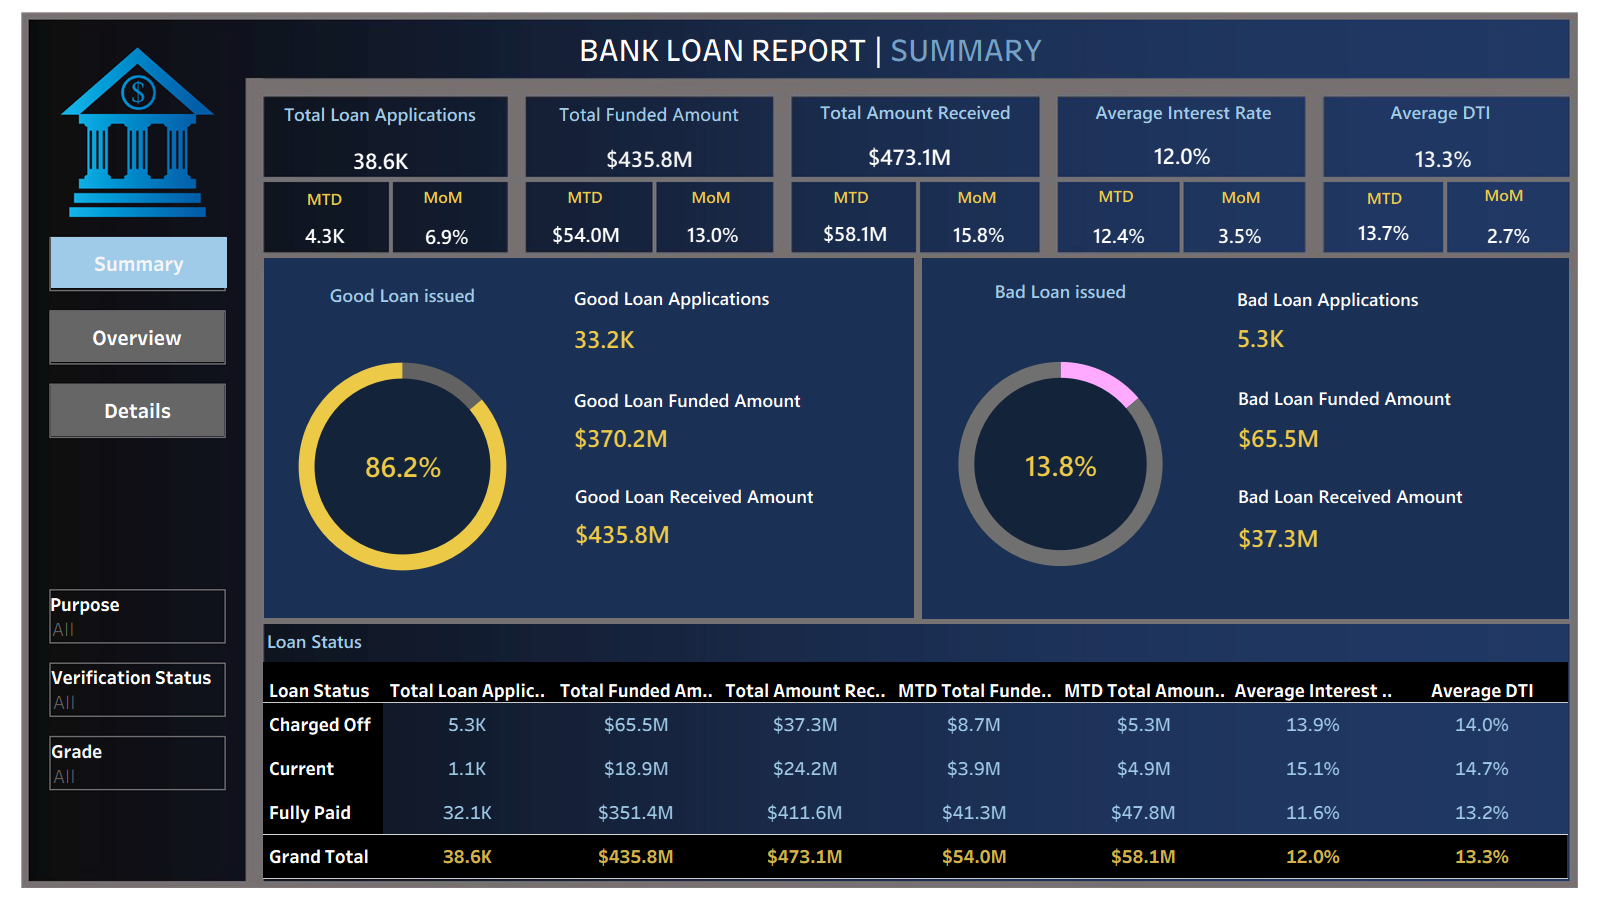

The dashboard page shown, as its layout file describes it:
{"tool":"tableau","page":{"name":"Summary Dashboard","canvas":[1600,900],"ordinal":2},"visuals":[{"type":"image","param":"C:/Users/JOY/Downloads/summary-01.jpg","box":[8,8,1584,884]},{"type":"text","box":[445,24,731,50]},{"type":"text","box":[555,96,188,35]},{"type":"text","box":[280,97,200,34]},{"type":"text","box":[816,97,199,30]},{"type":"text","box":[1091,97,185,30]},{"type":"text","box":[1386,97,109,30]},{"type":"worksheet","title":"Avg Interest Rate","mark":"Automatic","box":[1139,136,88,40]},{"type":"worksheet","title":"Total Amount Received","mark":"Automatic","box":[863,139,95,36]},{"type":"worksheet","title":"Total Funded Amount","mark":"Automatic","box":[600,142,101,34]},{"type":"worksheet","title":"Average DTI","mark":"Automatic","box":[1390,143,109,32]},{"type":"worksheet","title":"Total Loan Applications","mark":"Automatic","box":[338,144,87,33]},{"type":"text","box":[1449,180,110,30]},{"type":"text","box":[1066,181,100,30]},{"type":"text","box":[398,182,90,30]},{"type":"text","box":[535,182,100,30]},{"type":"text","box":[661,182,100,30]},{"type":"text","box":[801,182,100,30]},{"type":"text","box":[927,182,100,30]},{"type":"text","box":[1185,182,112,30]},{"type":"text","box":[1355,183,59,30]},{"type":"text","box":[283,184,83,29]},{"type":"worksheet","title":"MTD Total Amount Received","mark":"Automatic","box":[812,215,87,36]},{"type":"worksheet","title":"MTD Average DTI","mark":"Automatic","box":[1340,215,88,35]},{"type":"worksheet","title":"MTD Total Funded Amount","mark":"Automatic","box":[543,217,87,34]},{"type":"worksheet","title":"MoM Total Amount Received","mark":"Automatic","box":[938,217,82,35]},{"type":"worksheet","title":"MoM Total Funded Amount","mark":"Automatic","box":[672,218,82,33]},{"type":"worksheet","title":"MoM Average Interest Rate","mark":"Automatic","box":[1191,218,99,34]},{"type":"worksheet","title":"MoM Average DTI","mark":"Automatic","box":[1471,218,76,34]},{"type":"worksheet","title":"MTD Total Loan Applications","mark":"Automatic","box":[288,219,75,32]},{"type":"worksheet","title":"MoM Total Loan Applications","mark":"Automatic","box":[401,220,92,32]},{"type":"worksheet","title":"MTD Avg Interest Rate","mark":"Automatic","box":[1080,220,79,31]},{"type":"dashboard-object","box":[51,237,176,51]},{"type":"worksheet","title":"Good Loan Vs Bad Loan Copy","mark":"Pie","rows":["Calculation_0282077807128601","Calculation_0282077807128601"],"box":[921,273,279,343]},{"type":"worksheet","title":"Good VS Bad Loan","mark":"Pie","rows":["Calculation_0282077807128601","Calculation_0282077807128601"],"box":[263,277,279,340]},{"type":"worksheet","title":"Good Loan Applications","mark":"Automatic","box":[570,280,334,78]},{"type":"worksheet","title":"Bad Loan Applications","mark":"Automatic","box":[1233,281,312,74]},{"type":"dashboard-object","box":[50,311,174,51]},{"type":"worksheet","title":"Bad Loan Funded Amount","mark":"Automatic","box":[1234,380,308,76]},{"type":"worksheet","title":"Good Loan Funded Amount","mark":"Automatic","box":[570,382,337,73]},{"type":"dashboard-object","box":[51,384,173,52]},{"type":"worksheet","title":"% Bad Loan Applications ","mark":"Automatic","box":[996,412,131,106]},{"type":"worksheet","title":"% Good Loan Applications","mark":"Automatic","box":[333,419,141,94]},{"type":"worksheet","title":"Good Loan Total Received Amount","mark":"Automatic","box":[571,478,333,73]},{"type":"worksheet","title":"Bad Loan Total Received Amount ","mark":"Automatic","box":[1234,478,313,80]},{"type":"filter","title":"Good VS Bad Loan","param":"[federated.02bapp10spx5te19axciv0uohof1].[none:purpose:nk]","box":[50,590,176,52]},{"type":"worksheet","title":"Loan Staus App","mark":"Automatic","rows":["loan_status"],"box":[263,623,1305,256]},{"type":"filter","title":"Good VS Bad Loan","param":"[federated.02bapp10spx5te19axciv0uohof1].[none:verification_status:nk]","box":[51,663,174,140]},{"type":"filter","title":"Good VS Bad Loan","param":"[federated.02bapp10spx5te19axciv0uohof1].[none:grade:nk]","box":[51,737,175,52]}]}

Visuals, with their boxes in screenshot pixels (x1, y1, x2, y2), scaled from the page's 1600x900 canvas onto the 1600x900 screenshot:
image: detection(8, 8, 1592, 892)
text: detection(445, 24, 1176, 74)
text: detection(555, 96, 743, 131)
text: detection(280, 97, 480, 131)
text: detection(816, 97, 1015, 127)
text: detection(1091, 97, 1276, 127)
text: detection(1386, 97, 1495, 127)
"Avg Interest Rate" worksheet: detection(1139, 136, 1227, 176)
"Total Amount Received" worksheet: detection(863, 139, 958, 175)
"Total Funded Amount" worksheet: detection(600, 142, 701, 176)
"Average DTI" worksheet: detection(1390, 143, 1499, 175)
"Total Loan Applications" worksheet: detection(338, 144, 425, 177)
text: detection(1449, 180, 1559, 210)
text: detection(1066, 181, 1166, 211)
text: detection(398, 182, 488, 212)
text: detection(535, 182, 635, 212)
text: detection(661, 182, 761, 212)
text: detection(801, 182, 901, 212)
text: detection(927, 182, 1027, 212)
text: detection(1185, 182, 1297, 212)
text: detection(1355, 183, 1414, 213)
text: detection(283, 184, 366, 213)
"MTD Total Amount Received" worksheet: detection(812, 215, 899, 251)
"MTD Average DTI" worksheet: detection(1340, 215, 1428, 250)
"MTD Total Funded Amount" worksheet: detection(543, 217, 630, 251)
"MoM Total Amount Received" worksheet: detection(938, 217, 1020, 252)
"MoM Total Funded Amount" worksheet: detection(672, 218, 754, 251)
"MoM Average Interest Rate" worksheet: detection(1191, 218, 1290, 252)
"MoM Average DTI" worksheet: detection(1471, 218, 1547, 252)
"MTD Total Loan Applications" worksheet: detection(288, 219, 363, 251)
"MoM Total Loan Applications" worksheet: detection(401, 220, 493, 252)
"MTD Avg Interest Rate" worksheet: detection(1080, 220, 1159, 251)
dashboard-object: detection(51, 237, 227, 288)
"Good Loan Vs Bad Loan Copy" worksheet (Pie marks): detection(921, 273, 1200, 616)
"Good VS Bad Loan" worksheet (Pie marks): detection(263, 277, 542, 617)
"Good Loan Applications" worksheet: detection(570, 280, 904, 358)
"Bad Loan Applications" worksheet: detection(1233, 281, 1545, 355)
dashboard-object: detection(50, 311, 224, 362)
"Bad Loan Funded Amount" worksheet: detection(1234, 380, 1542, 456)
"Good Loan Funded Amount" worksheet: detection(570, 382, 907, 455)
dashboard-object: detection(51, 384, 224, 436)
"% Bad Loan Applications " worksheet: detection(996, 412, 1127, 518)
"% Good Loan Applications" worksheet: detection(333, 419, 474, 513)
"Good Loan Total Received Amount" worksheet: detection(571, 478, 904, 551)
"Bad Loan Total Received Amount " worksheet: detection(1234, 478, 1547, 558)
"Good VS Bad Loan" filter: detection(50, 590, 226, 642)
"Loan Staus App" worksheet: detection(263, 623, 1568, 879)
"Good VS Bad Loan" filter: detection(51, 663, 225, 803)
"Good VS Bad Loan" filter: detection(51, 737, 226, 789)
